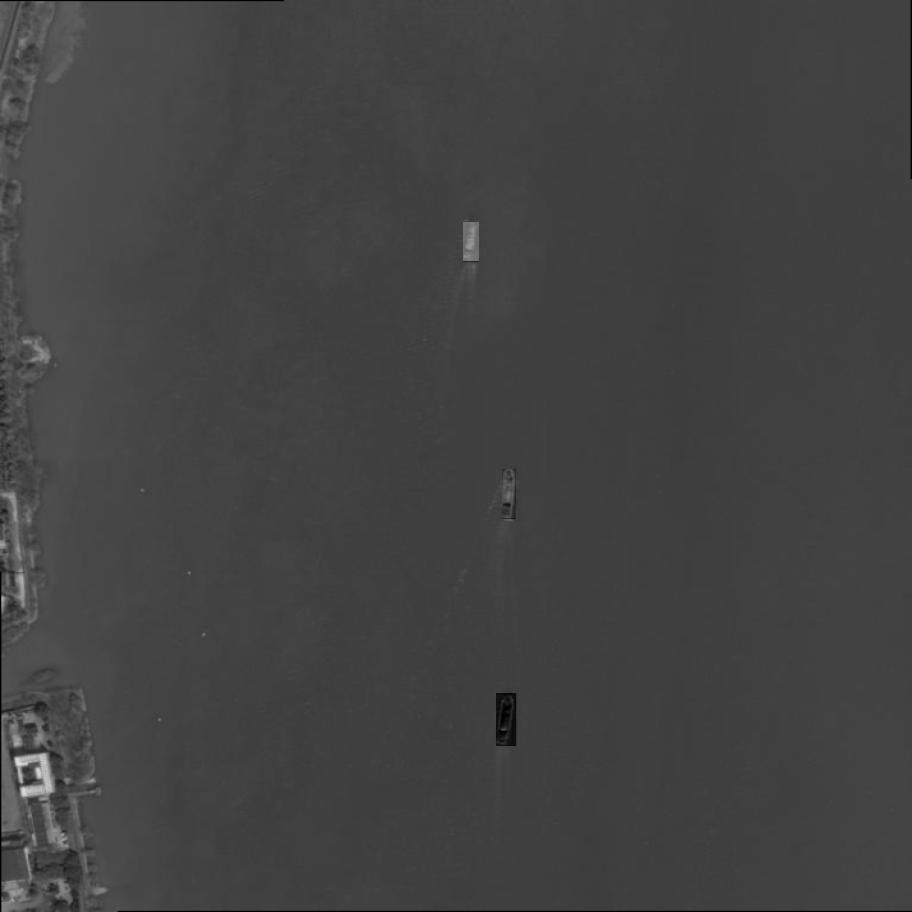ship: (496, 693, 518, 747), (503, 469, 518, 519), (463, 222, 480, 262)
